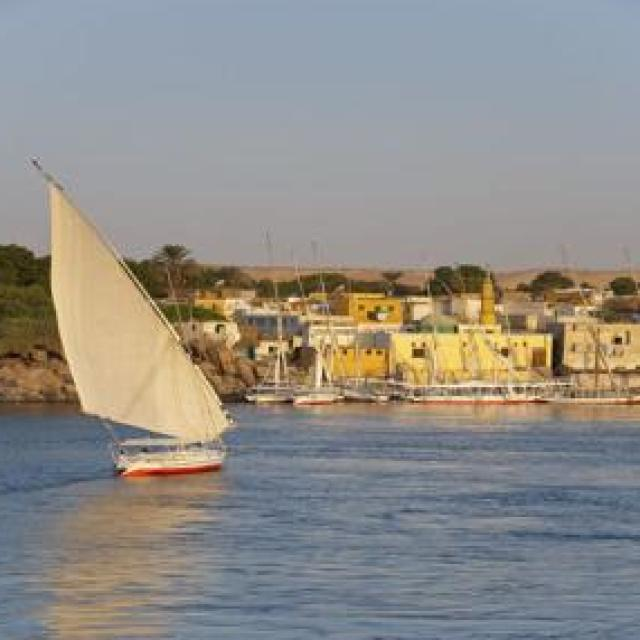sailboat: (25, 153, 237, 484)
